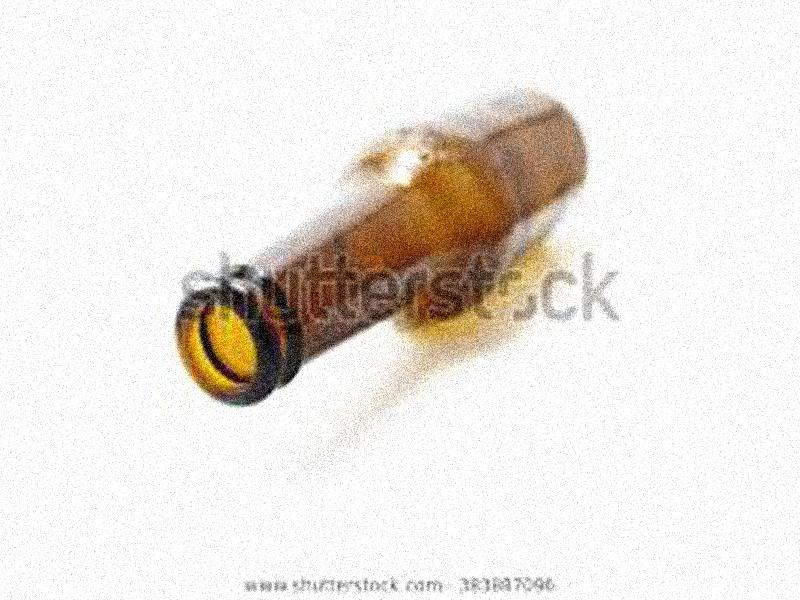Beer: (173, 89, 588, 409)
